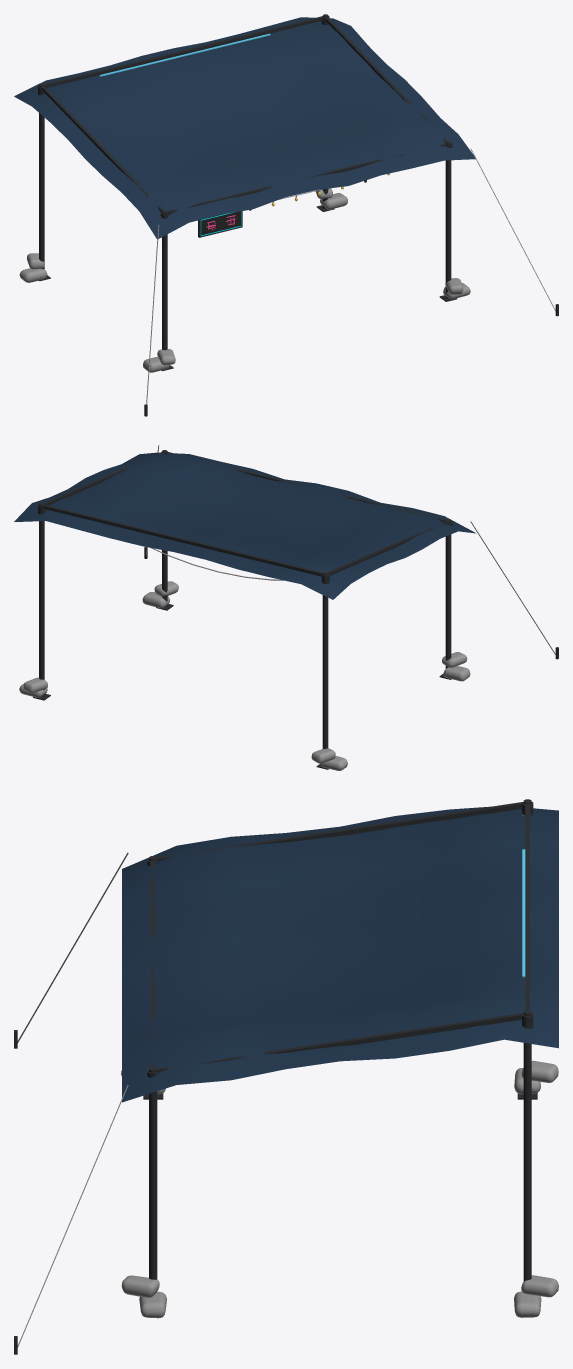
File: TarpShelter_Blue.fbx
3 renders of one model, top to bottom at view 1: azimuth 30°, elevation 25°; view 2: azimuth 150°, elevation 25°; view 3: azimuth 270°, elevation 25°, orthographic. The views are drawn at different scales.
Parts seen in each view (by area): view 1: TarpShelter_Blue_LOD0; view 2: TarpShelter_Blue_LOD0; view 3: TarpShelter_Blue_LOD0.
Boxes of the visible parts, x1,y1,x2,y2 form: TarpShelter_Blue_LOD0: [14, 14, 558, 416]; TarpShelter_Blue_LOD0: [14, 445, 558, 770]; TarpShelter_Blue_LOD0: [14, 799, 558, 1354].
Size of what is drawn, in the model's own units: 5.83 by 2.6 by 4.37.
